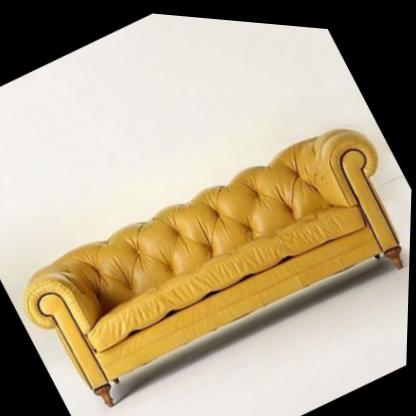Sofa: (11, 79, 414, 416)
